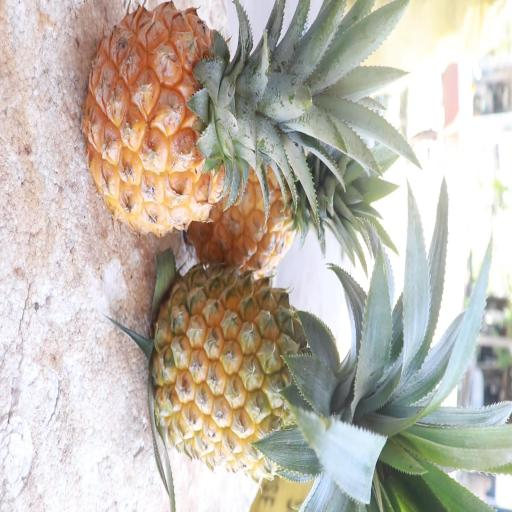Pineapple - v8 v1: (79, 0, 299, 246), (146, 260, 398, 470), (182, 130, 348, 272)
